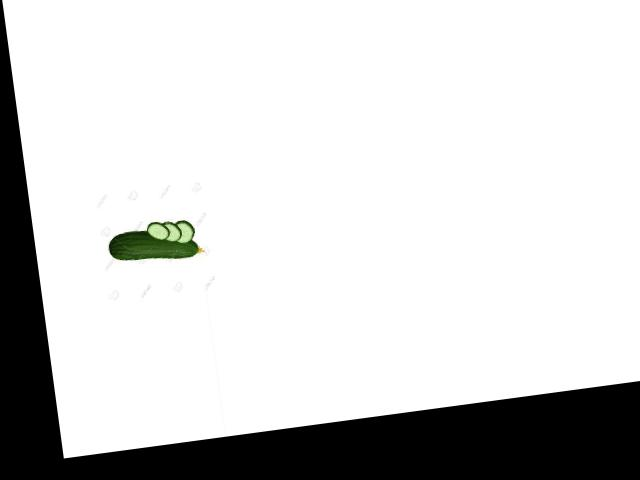cucumber: (105, 222, 204, 267)
